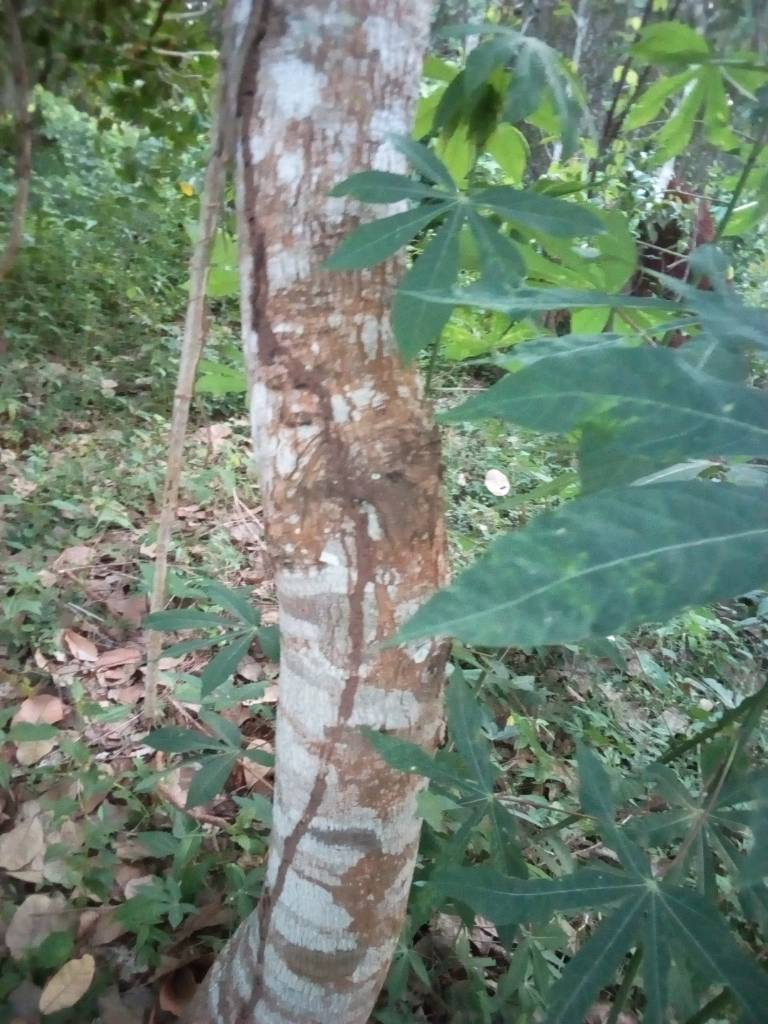Termites: (241, 7, 372, 508), (241, 560, 368, 1024)
